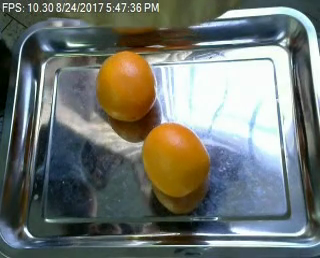Orange: (142, 121, 209, 198), (96, 49, 155, 121)
